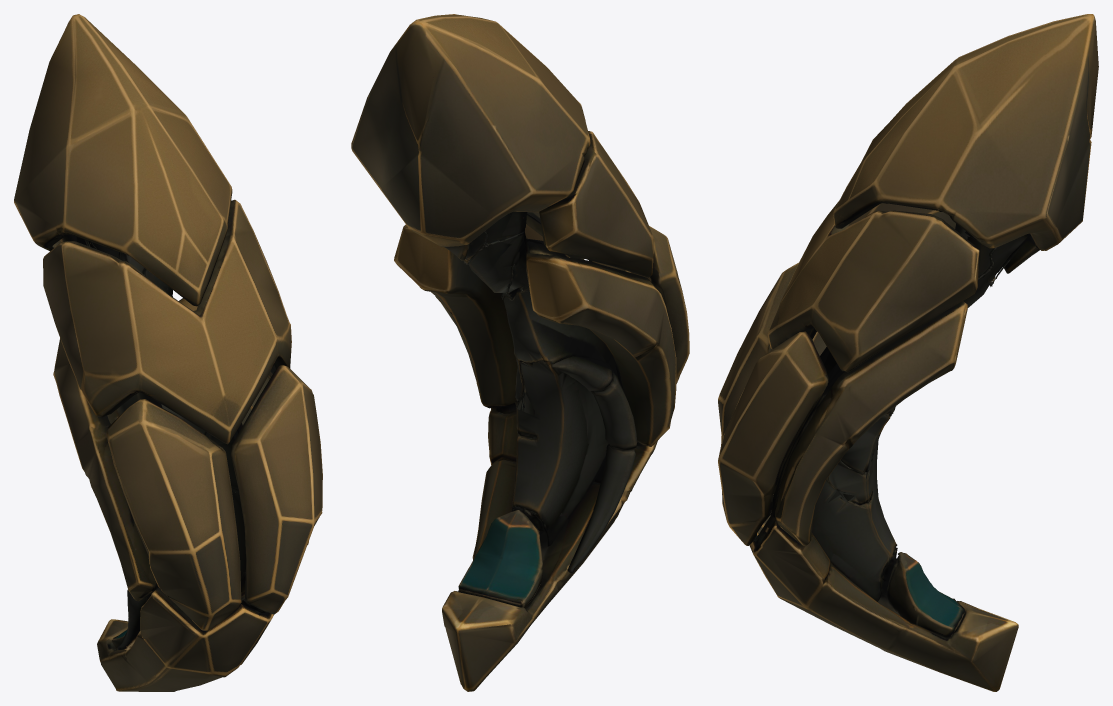
Rendered from shell.glb.
The picture shows the model from 3 angles, left to right: view 1: azimuth 30°, elevation 25°; view 2: azimuth 150°, elevation 25°; view 3: azimuth 270°, elevation 25°; orthographic projection. The views are drawn at different scales.
Parts seen in each view (by area): view 1: tripo_node_60a140e6-7d47-4f61-8f67-e347ceef6594; view 2: tripo_node_60a140e6-7d47-4f61-8f67-e347ceef6594; view 3: tripo_node_60a140e6-7d47-4f61-8f67-e347ceef6594.
Boxes of the visible parts, x1,y1,x2,y2 form: tripo_node_60a140e6-7d47-4f61-8f67-e347ceef6594: [14, 14, 322, 691]; tripo_node_60a140e6-7d47-4f61-8f67-e347ceef6594: [351, 14, 689, 691]; tripo_node_60a140e6-7d47-4f61-8f67-e347ceef6594: [718, 14, 1098, 691].
Bounding box in the file's own units: 0.3418 × 0.998 × 0.5098.
Materials: 1 (1 with a texture image).
